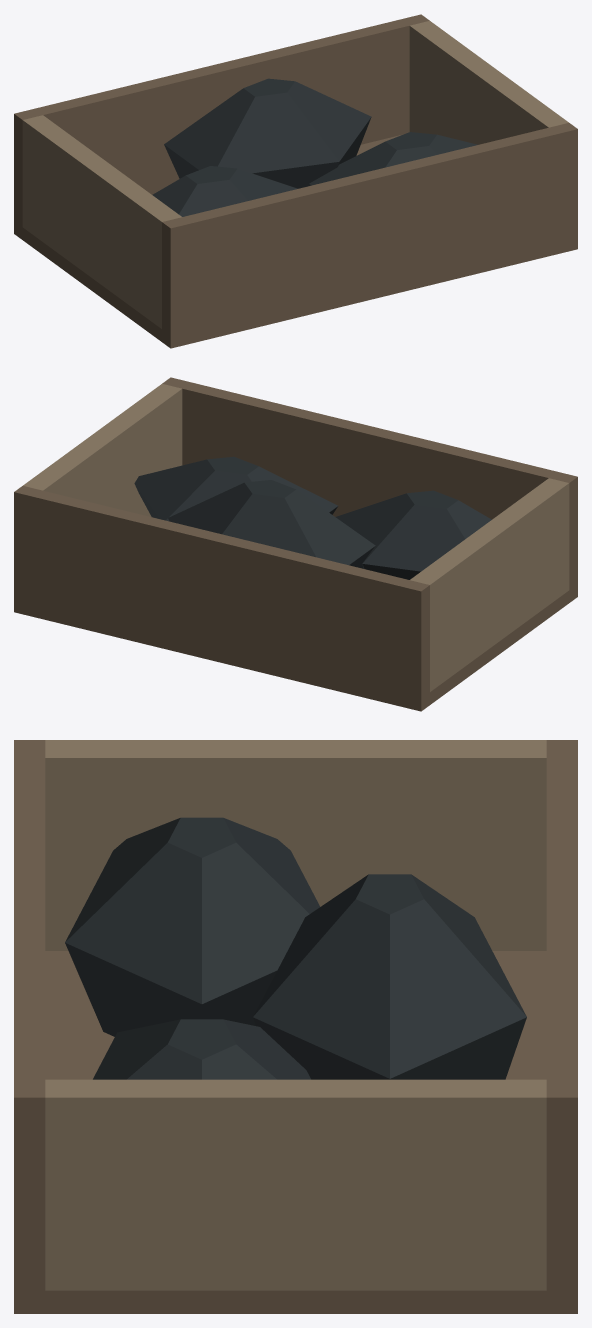
File: coal_bin.glb
3 renders of one model, top to bottom at view 1: azimuth 30°, elevation 25°; view 2: azimuth 150°, elevation 25°; view 3: azimuth 270°, elevation 25°, orthographic. The views are drawn at different scales.
Parts seen in each view (by area): view 1: coal_bin; view 2: coal_bin; view 3: coal_bin.
Boxes of the visible parts, box(x1,y1,x2,y2) form: coal_bin: box(14, 14, 577, 348); coal_bin: box(14, 377, 577, 711); coal_bin: box(14, 740, 577, 1313).
Bounding box in the file's own units: 3 × 0.95 × 2.
